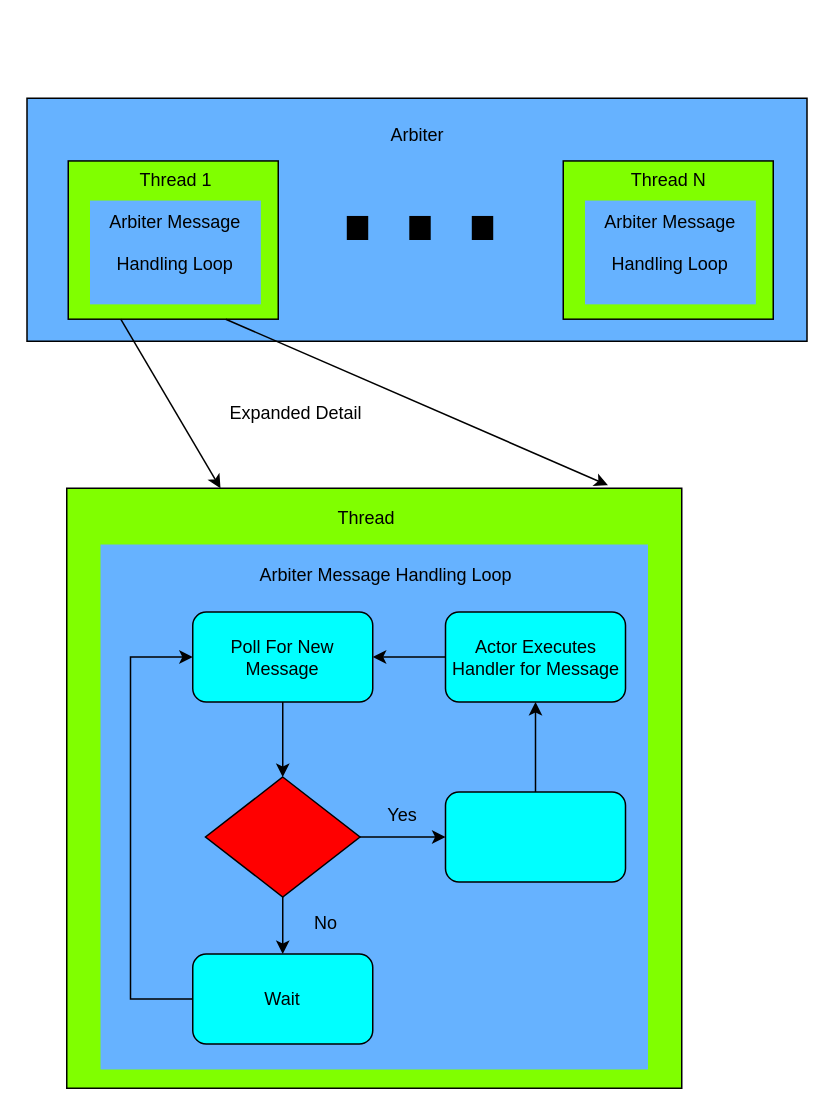
The diagram is 833 pixels wide and 1115 high, and some of its shapes have lost their labels. Each missing label, with the centre of its shape:
"New Message Exists?" goes at (x=282, y=836).
"Send Message to Actor" goes at (x=535, y=836).
